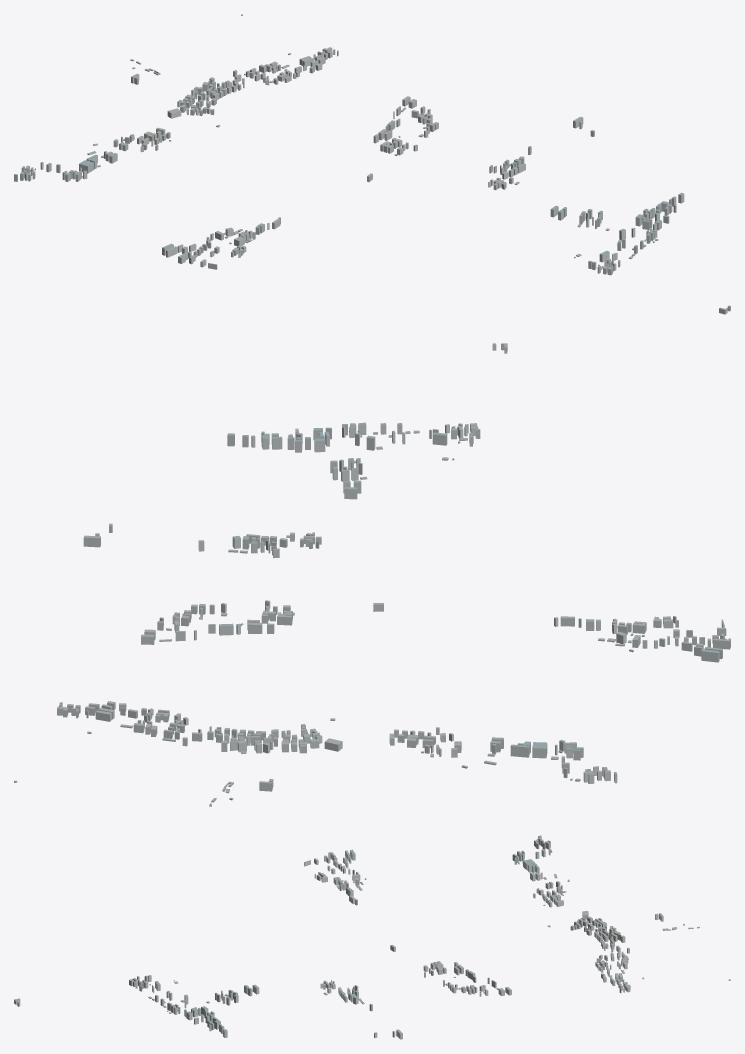
File: far.glb
3 views of the same model, one above another, from view 1: azimuth 30°, elevation 25°; view 2: azimuth 150°, elevation 25°; view 3: azimuth 270°, elevation 25° (orthographic). The views are drawn at different scales.
Size of the model in its own units: 1318 by 23.9 by 2011.
